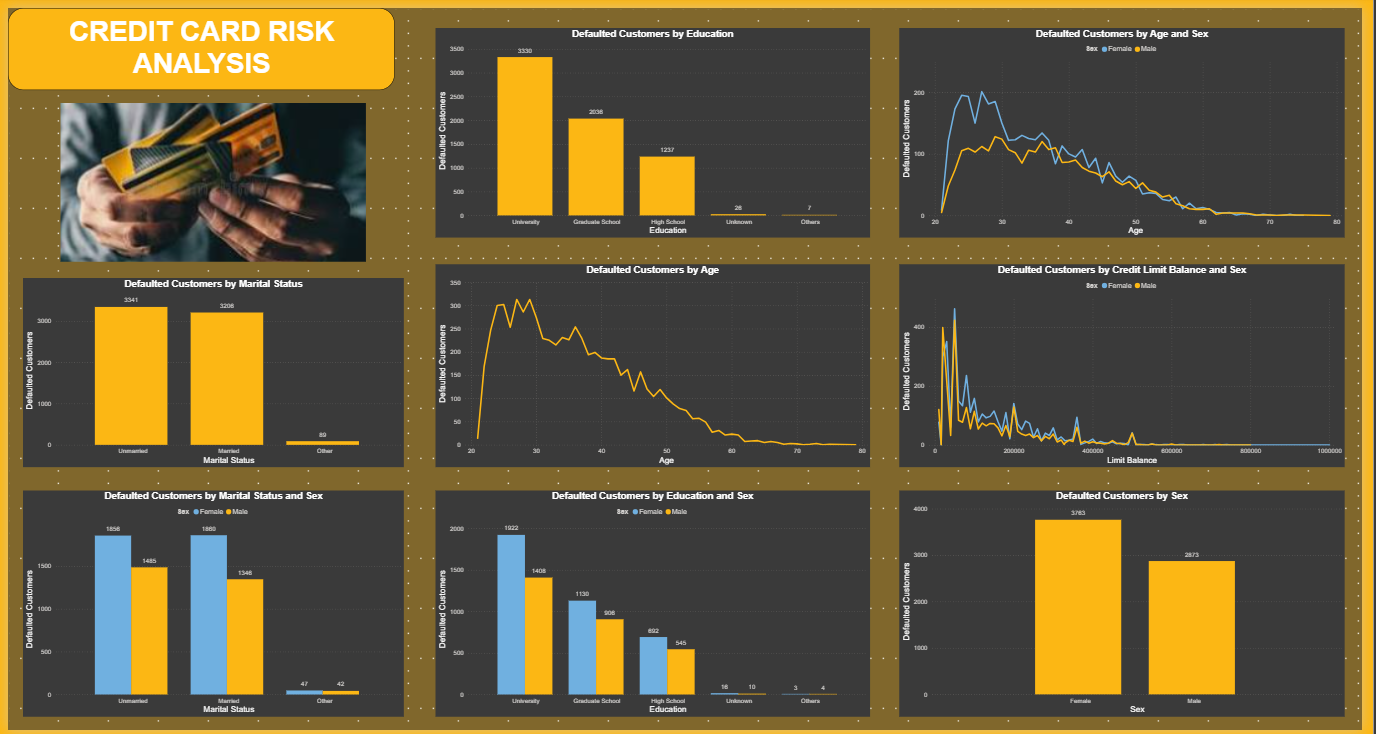

The dashboard page shown, as its layout file describes it:
{"tool":"powerbi","page":{"name":"Page 1","canvas":[2600,1388],"ordinal":0},"visuals":[{"type":"textbox","box":[0,0,742.1,157.9],"z":0},{"type":"clusteredColumnChart","fields":{"Category":["UCI_Credit_Card_Default.EDUCATION"],"Y":["Sum(UCI_Credit_Card_Default.default.payment.next.month)"]},"box":[821.1,39.5,834.2,402.6],"z":1000},{"type":"clusteredColumnChart","title":"Defaulted Customers by Sex","fields":{"Y":["Sum(UCI_Credit_Card_Default.default.payment.next.month)"],"Category":["UCI_Credit_Card_Default.SEX"]},"box":[1710.5,926.3,855.3,434.2],"z":2000},{"type":"clusteredColumnChart","title":"Defaulted Customers by Marital Status","fields":{"Y":["Sum(UCI_Credit_Card_Default.default.payment.next.month)"],"Category":["UCI_Credit_Card_Default.MARRIAGE"]},"box":[28.9,518.4,731.6,363.2],"z":3000},{"type":"lineChart","title":"Defaulted Customers by Age","fields":{"Category":["UCI_Credit_Card_Default.AGE"],"Y":["Sum(UCI_Credit_Card_Default.default.payment.next.month)"]},"box":[821.1,492.1,834.2,389.5],"z":4000},{"type":"clusteredColumnChart","title":"Defaulted Customers by Marital Status and Sex","fields":{"Y":["Sum(UCI_Credit_Card_Default.default.payment.next.month)"],"Series":["UCI_Credit_Card_Default.SEX"],"Category":["UCI_Credit_Card_Default.MARRIAGE"]},"box":[28.9,926.3,731.6,434.2],"z":5000},{"type":"clusteredColumnChart","title":"Defaulted Customers by Education and Sex","fields":{"Y":["Sum(UCI_Credit_Card_Default.default.payment.next.month)"],"Category":["UCI_Credit_Card_Default.EDUCATION"],"Series":["UCI_Credit_Card_Default.SEX"]},"box":[821.1,926.3,834.2,434.2],"z":6000},{"type":"lineChart","title":"Defaulted Customers by Age and Sex","fields":{"Category":["UCI_Credit_Card_Default.AGE"],"Y":["Sum(UCI_Credit_Card_Default.default.payment.next.month)"],"Series":["UCI_Credit_Card_Default.SEX"]},"box":[1710.5,39.5,855.3,402.6],"z":7000},{"type":"lineChart","title":"Defaulted Customers by Credit Limit Balance and Sex","fields":{"Y":["Sum(UCI_Credit_Card_Default.default.payment.next.month)"],"Category":["UCI_Credit_Card_Default.LIMIT_BAL"],"Series":["UCI_Credit_Card_Default.SEX"]},"box":[1710.5,492.1,855.3,389.5],"z":8000},{"type":"lineChart","title":"Defaulted Customers by Credit Limit Balance and Education","fields":{"Y":["Sum(UCI_Credit_Card_Default.default.payment.next.month)"],"Category":["UCI_Credit_Card_Default.LIMIT_BAL"],"Series":["UCI_Credit_Card_Default.EDUCATION"]},"box":[640,1435,640,285],"z":9000},{"type":"lineChart","title":"Defaulted Customers by Credit Limit Balance and Marital Status","fields":{"Series":["UCI_Credit_Card_Default.MARRIAGE"],"Y":["Sum(UCI_Credit_Card_Default.default.payment.next.month)"],"Category":["UCI_Credit_Card_Default.LIMIT_BAL"]},"box":[0,1435,640,285],"z":10000},{"type":"image","box":[28.6,178.6,731,314.3],"z":10001}]}

Visuals, with their boxes in screenshot pixels (x1, y1, x2, y2), scaled from the page's 2600x1388 canvas onto the 1376x734 screenshot:
textbox: bbox=[0, 0, 393, 84]
clusteredColumnChart - UCI_Credit_Card_Default.EDUCATION x Sum(UCI_Credit_Card_Default.default.payment.next.month): bbox=[435, 21, 876, 234]
"Defaulted Customers by Sex" clusteredColumnChart: bbox=[905, 490, 1358, 719]
"Defaulted Customers by Marital Status" clusteredColumnChart: bbox=[15, 274, 402, 466]
"Defaulted Customers by Age" lineChart: bbox=[435, 260, 876, 466]
"Defaulted Customers by Marital Status and Sex" clusteredColumnChart: bbox=[15, 490, 402, 719]
"Defaulted Customers by Education and Sex" clusteredColumnChart: bbox=[435, 490, 876, 719]
"Defaulted Customers by Age and Sex" lineChart: bbox=[905, 21, 1358, 234]
"Defaulted Customers by Credit Limit Balance and Sex" lineChart: bbox=[905, 260, 1358, 466]
image: bbox=[15, 94, 402, 261]
